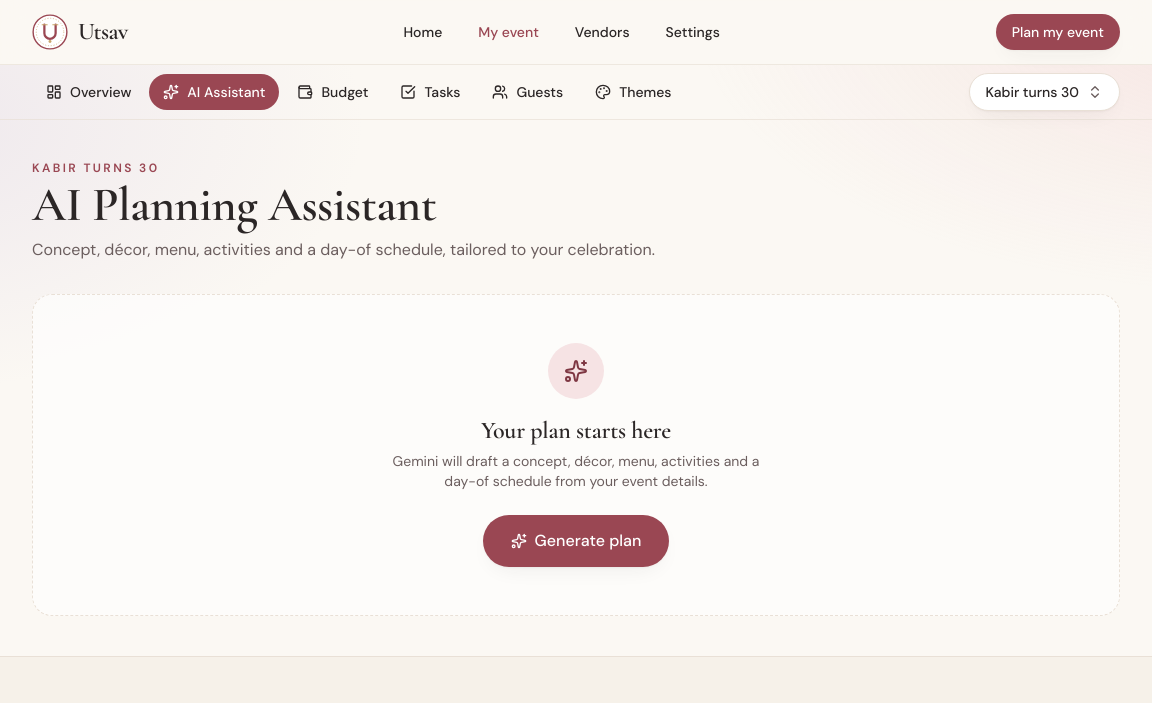
Scenario: AssistantPage › shows an error with Retry, then recovers
The width and height of the screenshot is (1152, 703).
Click the button "Generate plan".
click(576, 541)  # box [483,515,670,567]
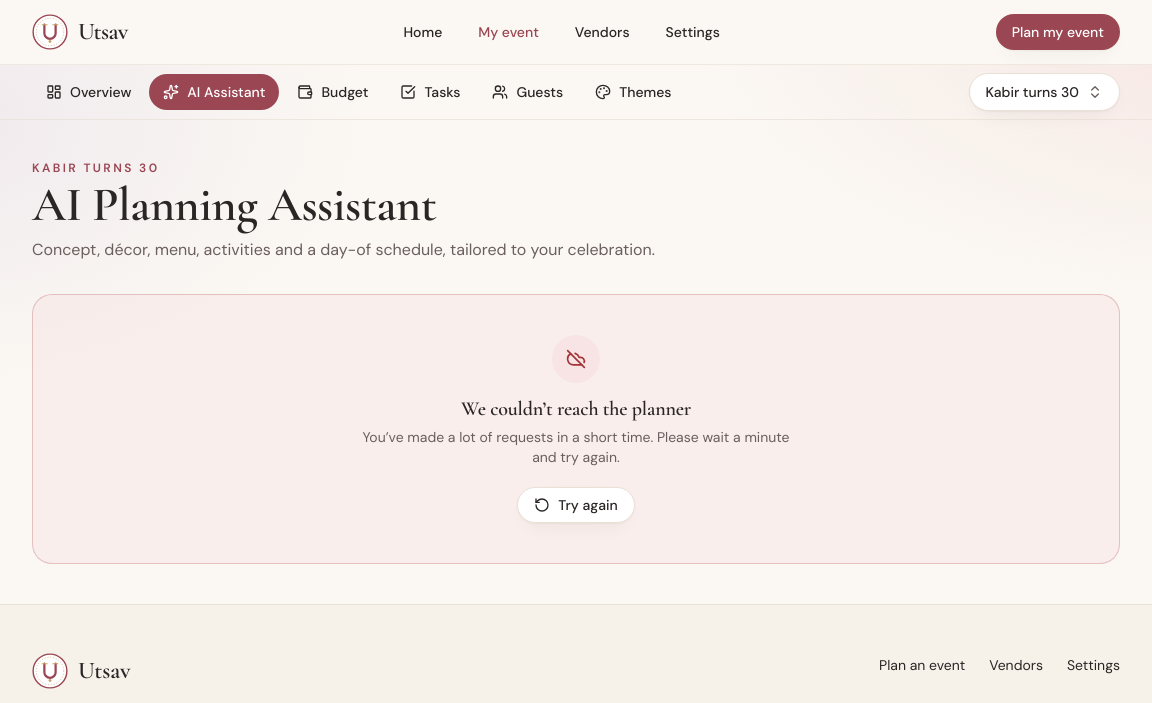
Expected: the text "wait a minute and try again" is shown, [362,428,790,466]
Click the button "Try again".
click(576, 505)  # box [517,487,635,523]
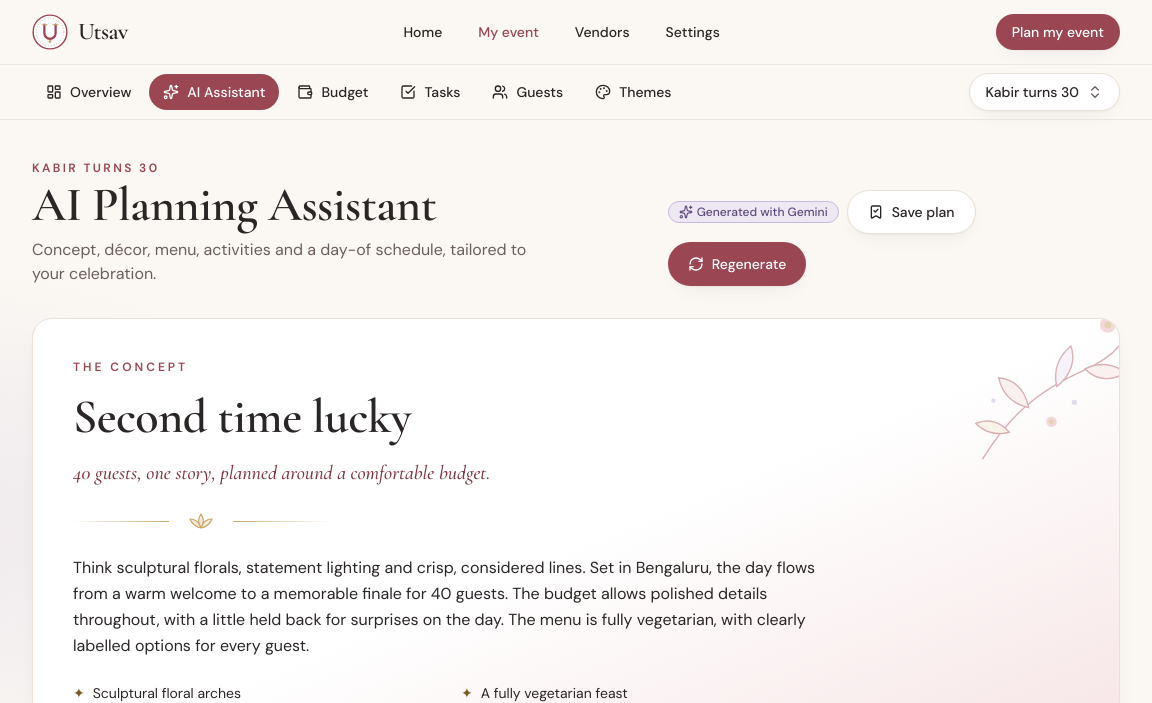
Expected: the heading "Second time lucky" is shown, [73,388,411,446]
